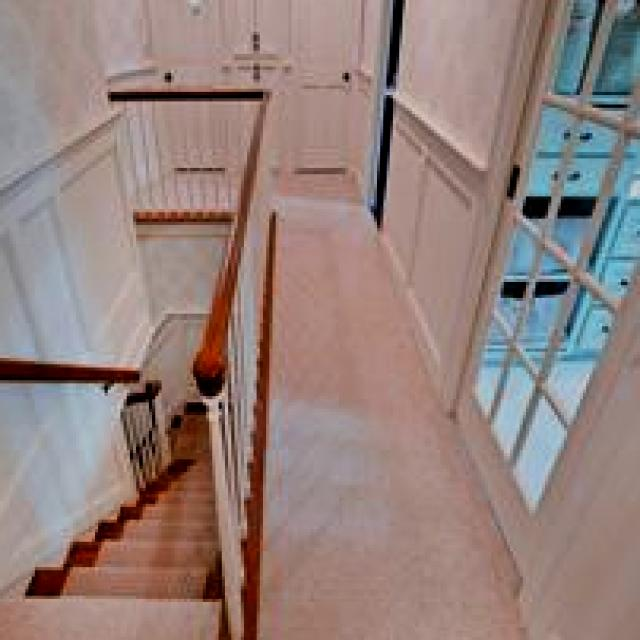downstair: (17, 435, 235, 616)
